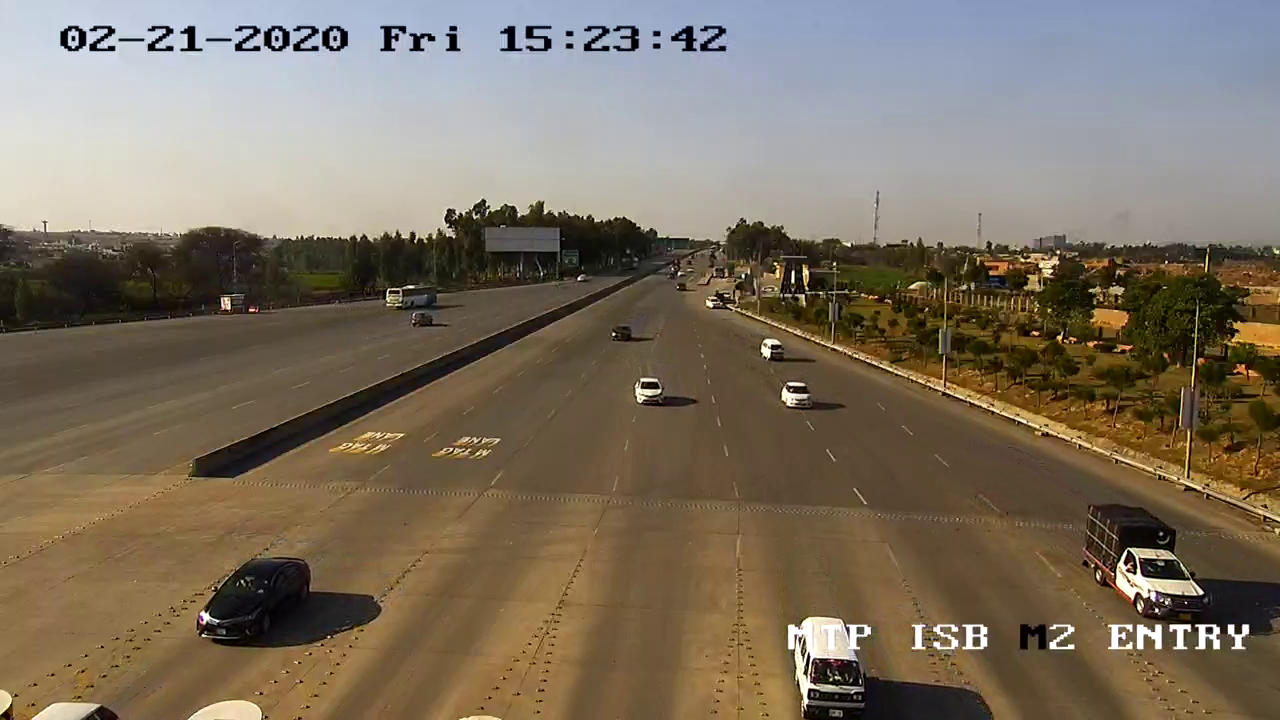f1: (1075, 495, 1211, 630), (188, 548, 318, 647)
